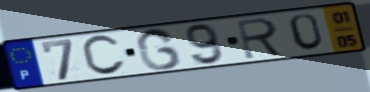0: (287, 12, 325, 53)
7: (38, 36, 77, 82)
9: (183, 22, 226, 65)
C: (80, 33, 129, 78)
G: (135, 27, 185, 72)
R: (235, 16, 287, 61)
